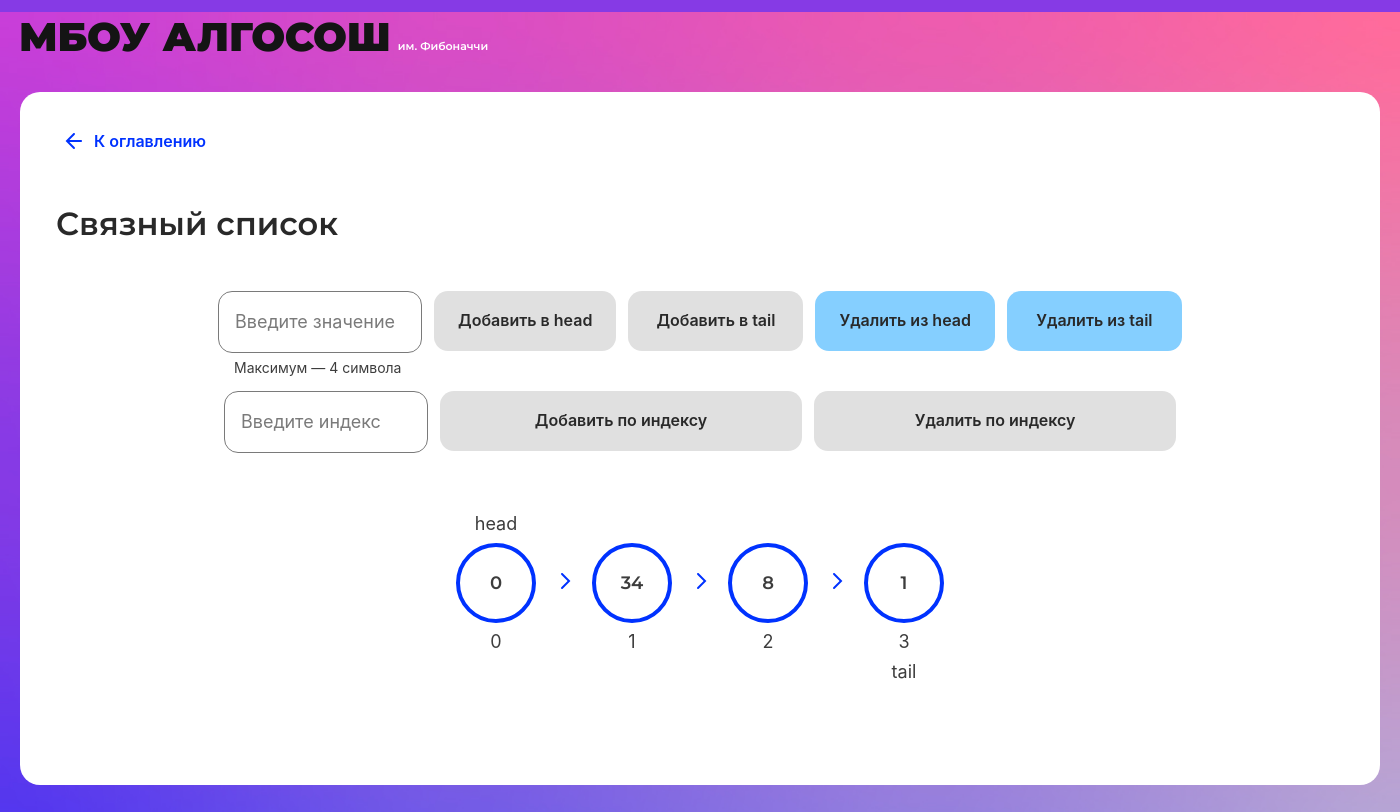
it: linked list page › add element button should be switch disabled state correctly depends on element input value
Check: the button with id "add-head-btn" is disabled, box [434,291,616,351]
Check: the button with id "add-tail-btn" is disabled, box [628,291,803,351]
Type "1" into the field with placeholder "Введите значение" at (320, 322), box [218,291,422,353]
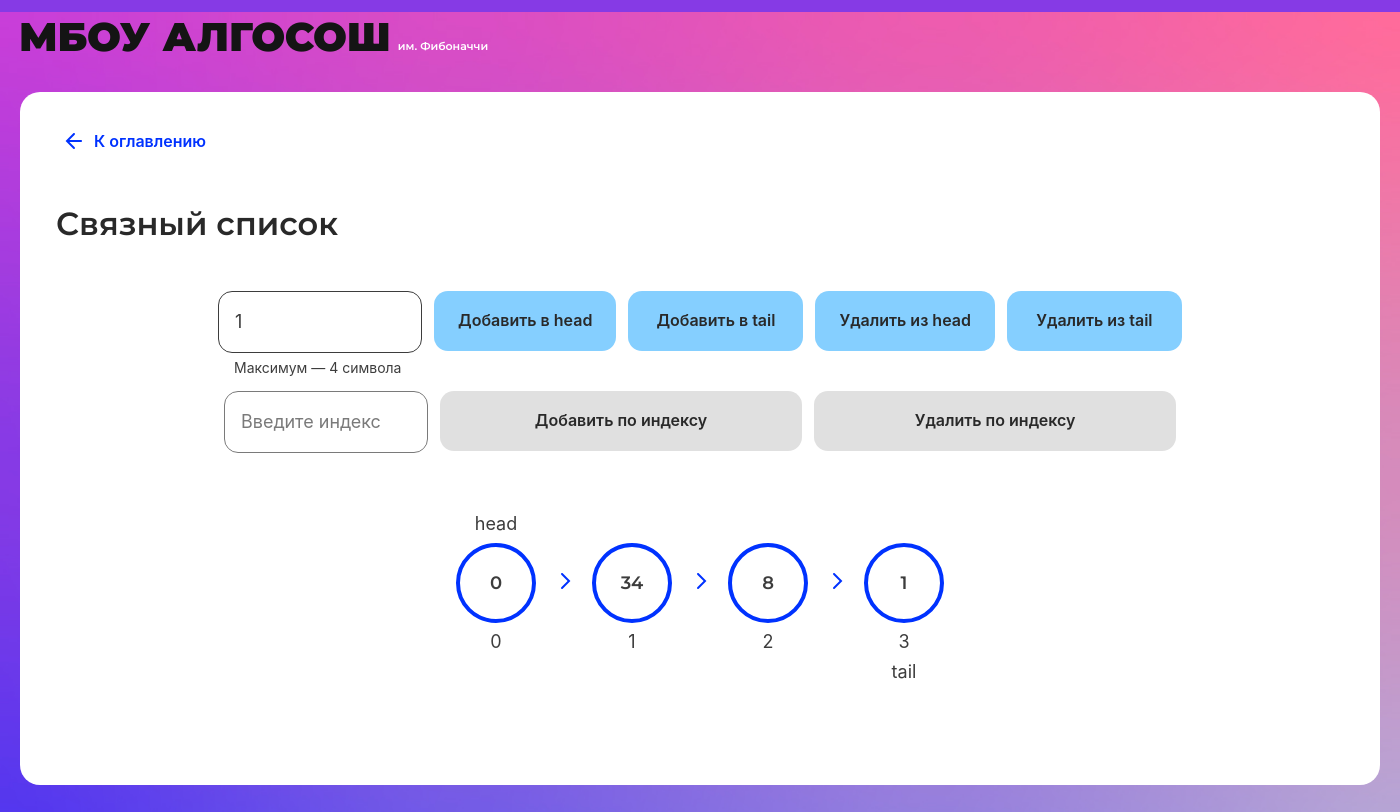
Type "1" into the number field with placeholder "Введите индекс" at (326, 422), box [224,391,428,453]
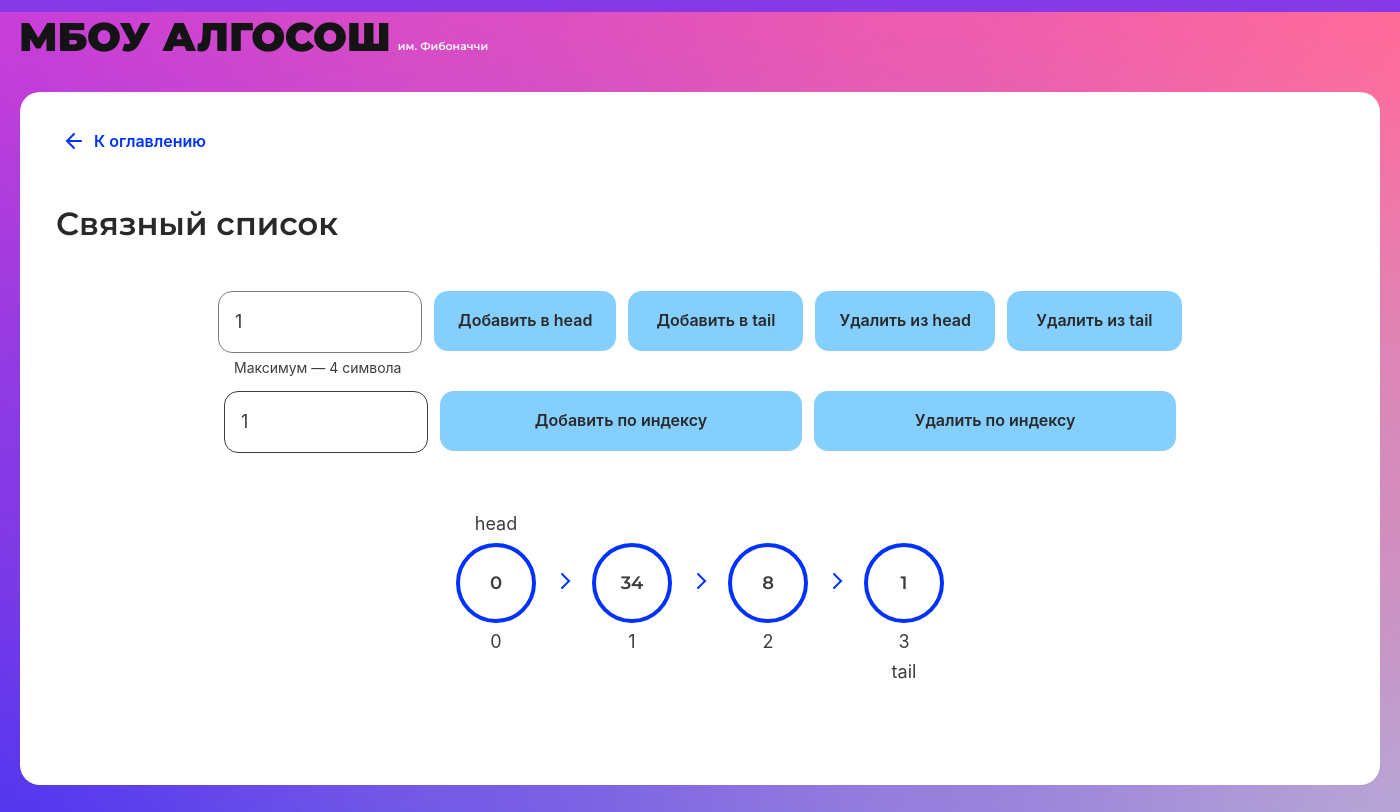
Check: the button with id "add-head-btn" is enabled, box [434,291,616,351]
Check: the button with id "add-tail-btn" is enabled, box [628,291,803,351]
Check: the button with id "add-index-btn" is enabled, box [440,391,802,451]
